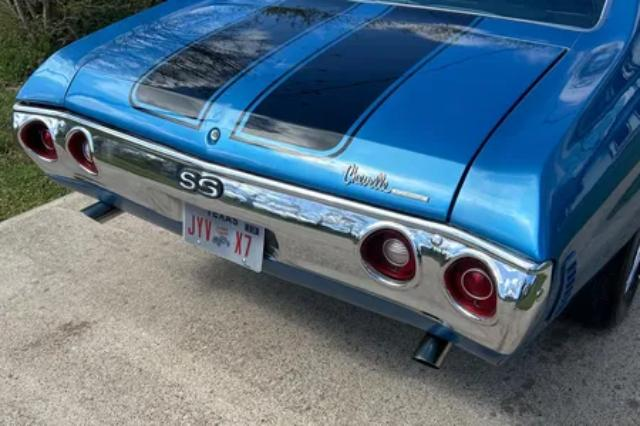chevelle-1972: (11, 0, 639, 367)
